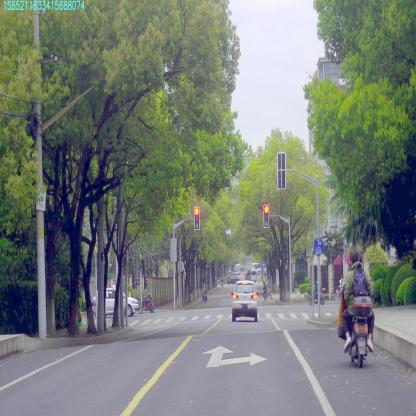traffic-light: (263, 205, 268, 227), (194, 207, 199, 229)
